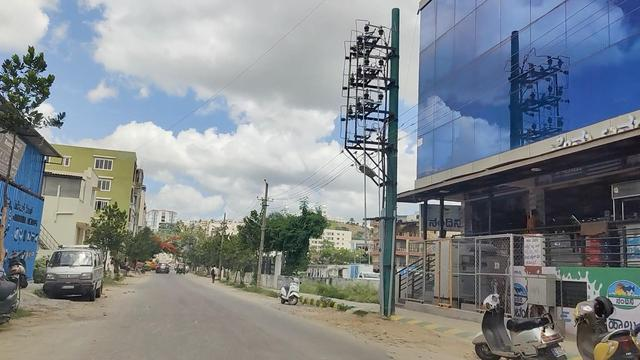LMV: (48, 248, 97, 296)
